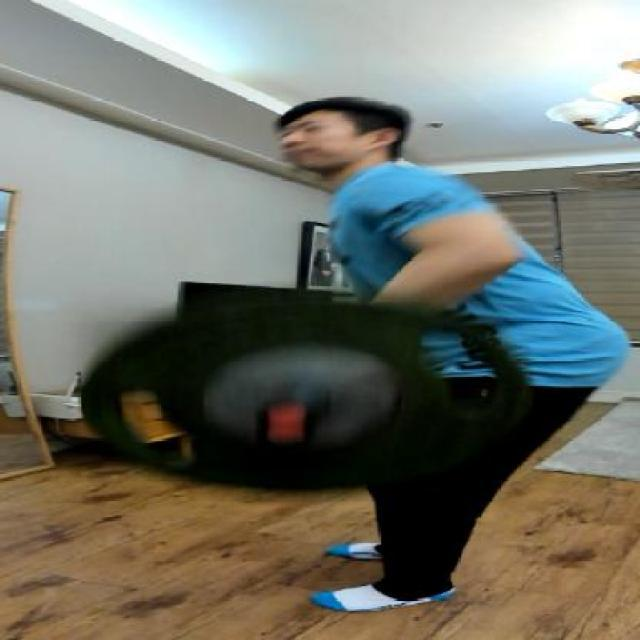Barbell: (249, 397, 334, 448)
